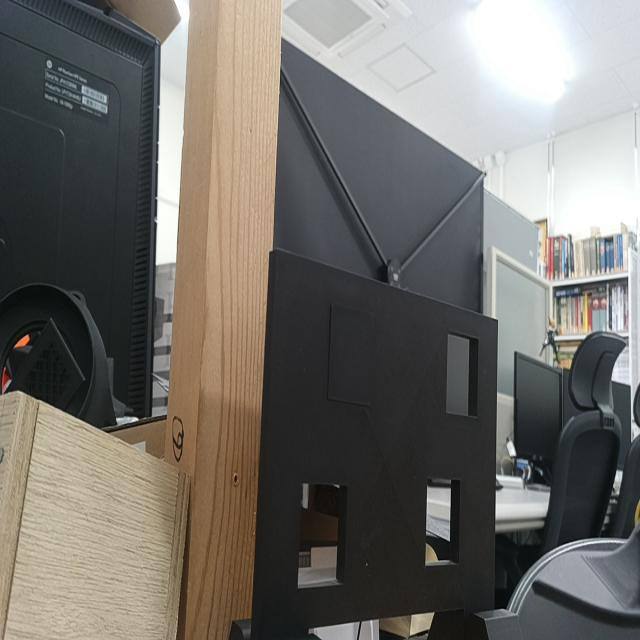Obstacle: (298, 484, 344, 587), (426, 478, 460, 570), (446, 330, 479, 418)
Wall: (251, 247, 499, 638)
